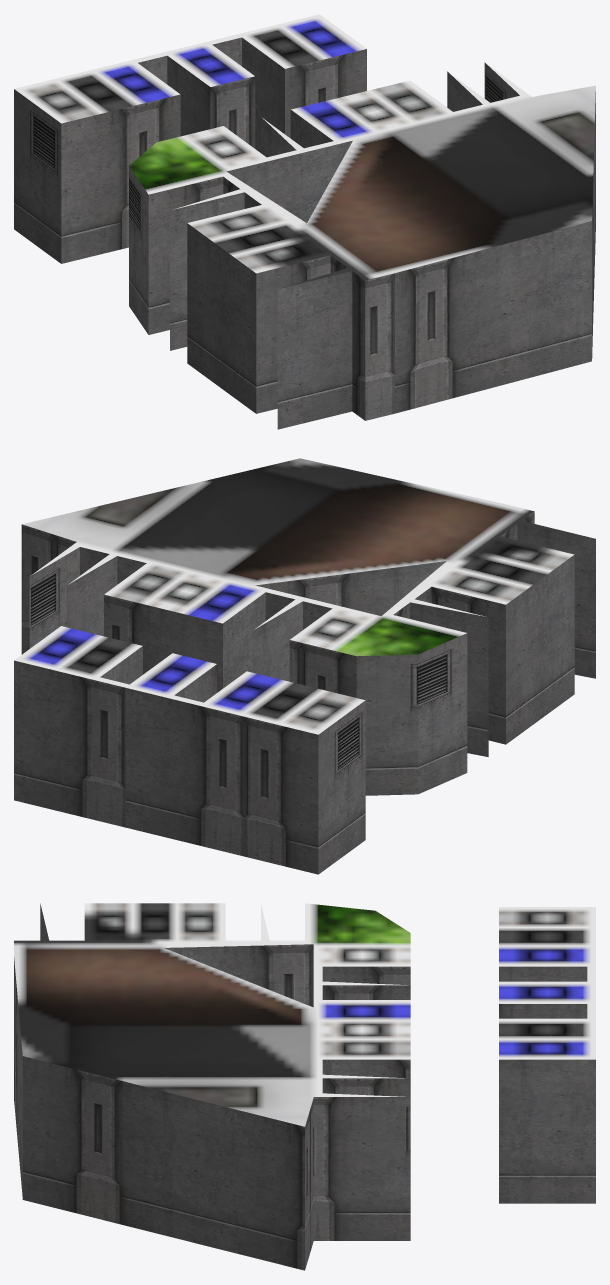
Rendered from BuildingSystem-03-Advance-04-ReinforcedLow-J-110-01.glb.
The picture shows the model from 3 angles, top to bottom: view 1: azimuth 30°, elevation 25°; view 2: azimuth 150°, elevation 25°; view 3: azimuth 270°, elevation 25°; orthographic projection. The views are drawn at different scales.
Visible parts, largest first — view 1: buildings/saxarba/SMV_Buildings/BuildingSystem-03-Advance-04; view 2: buildings/saxarba/SMV_Buildings/BuildingSystem-03-Advance-04; view 3: buildings/saxarba/SMV_Buildings/BuildingSystem-03-Advance-04.
Part boxes in pixels (box(x1,y1,x2,y2)): buildings/saxarba/SMV_Buildings/BuildingSystem-03-Advance-04: box(14, 14, 595, 429); buildings/saxarba/SMV_Buildings/BuildingSystem-03-Advance-04: box(14, 458, 595, 874); buildings/saxarba/SMV_Buildings/BuildingSystem-03-Advance-04: box(14, 903, 595, 1270).
Size of the model in its own units: 60 by 18 by 66.
